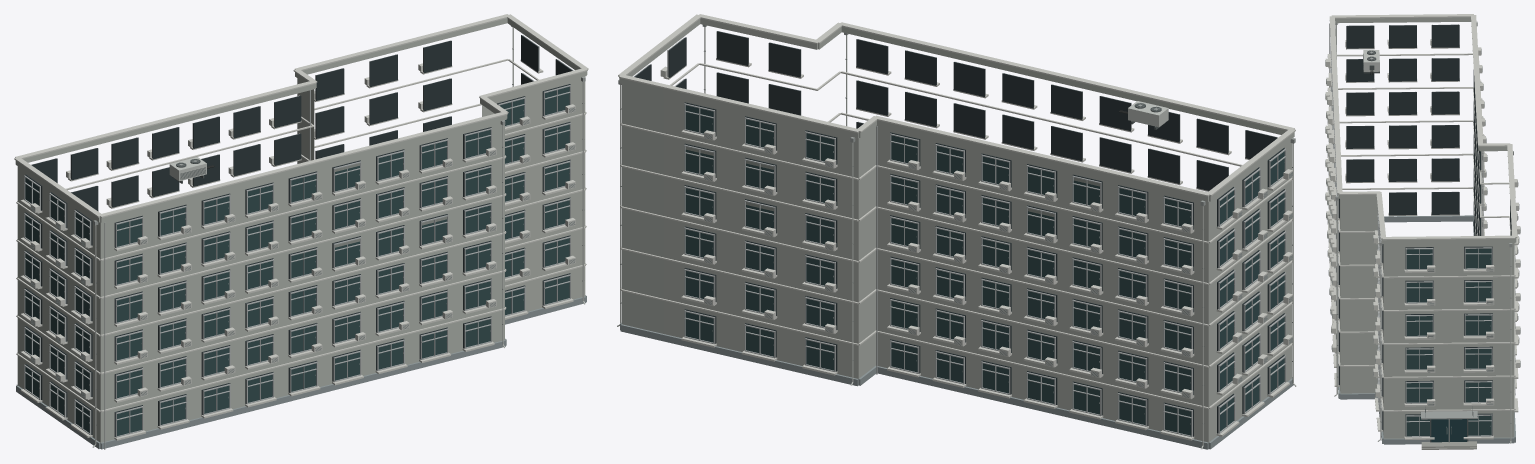
File: osm_way_223859791.glb
The picture shows the model from 3 angles, left to right: view 1: azimuth 30°, elevation 25°; view 2: azimuth 150°, elevation 25°; view 3: azimuth 270°, elevation 25°; orthographic projection. The views are drawn at different scales.
Parts seen in each view (by area): view 1: Windows and facade details | 17, Architecture | 17, Roof services | 17, EXTERIOR::osm_way_223859791::rainwater and roof service deta; view 2: Architecture | 17, Windows and facade details | 17, Roof services | 17, EXTERIOR::osm_way_223859791::rainwater and roof service deta; view 3: Architecture | 17, Windows and facade details | 17, Roof services | 17, EXTERIOR::osm_way_223859791::inferred entry doors canopy and, EXTERIOR::osm_way_223859791::rainwater and roof service deta.
Part boxes in pixels (box(x1,y1,x2,y2)): Windows and facade details | 17: box(20, 35, 575, 449); Architecture | 17: box(15, 18, 587, 449); Roof services | 17: box(14, 14, 588, 217); EXTERIOR::osm_way_223859791::rainwater and roof service deta: box(92, 26, 585, 447); Architecture | 17: box(619, 18, 1294, 449); Windows and facade details | 17: box(633, 31, 1292, 440); Roof services | 17: box(618, 14, 1295, 196); EXTERIOR::osm_way_223859791::rainwater and roof service deta: box(617, 24, 1296, 449); Architecture | 17: box(1335, 17, 1516, 444); Windows and facade details | 17: box(1325, 23, 1520, 439); Roof services | 17: box(1329, 14, 1517, 240); EXTERIOR::osm_way_223859791::inferred entry doors canopy and: box(1420, 406, 1477, 449); EXTERIOR::osm_way_223859791::rainwater and roof service deta: box(1334, 21, 1513, 443).
Size of the model in its own units: 47.68 by 20.58 by 16.96.
